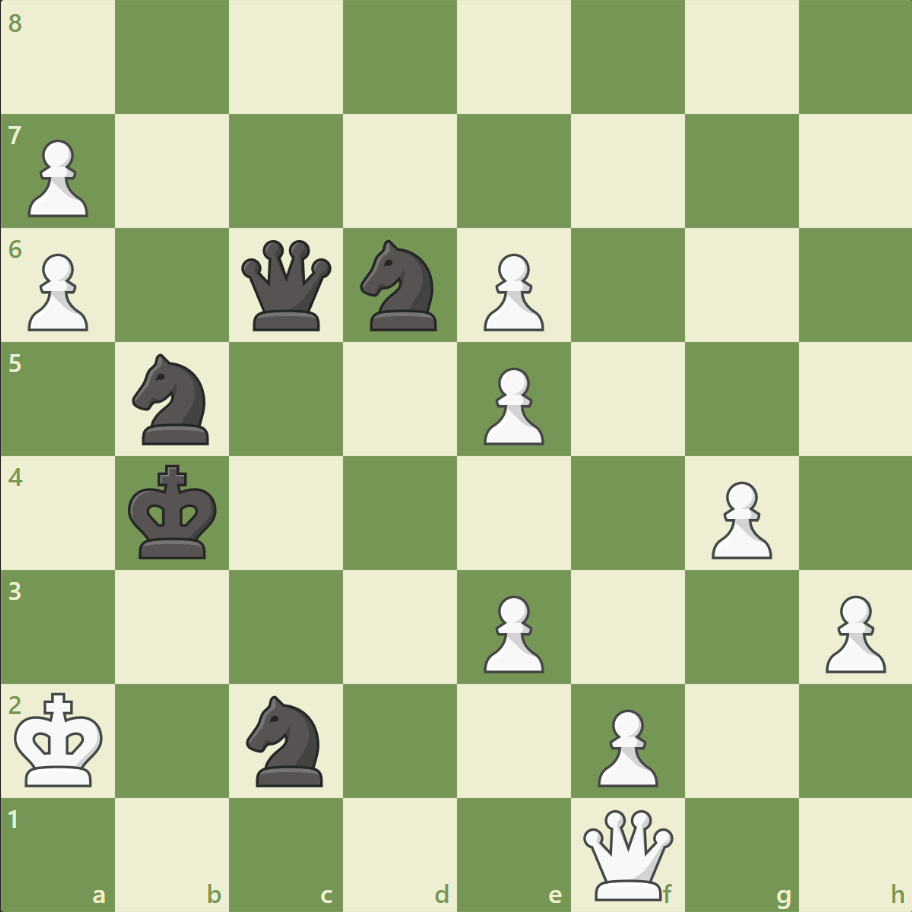K: (11, 685, 111, 793)
P: (20, 132, 95, 223), (20, 246, 95, 337), (474, 246, 549, 337), (474, 359, 549, 450), (701, 473, 776, 564), (474, 586, 549, 677), (815, 586, 889, 677), (588, 700, 662, 791)
Q: (578, 804, 677, 903)
k: (124, 458, 224, 566)
n: (351, 234, 449, 337), (124, 348, 222, 450), (238, 688, 335, 791)
q: (237, 236, 336, 335)
